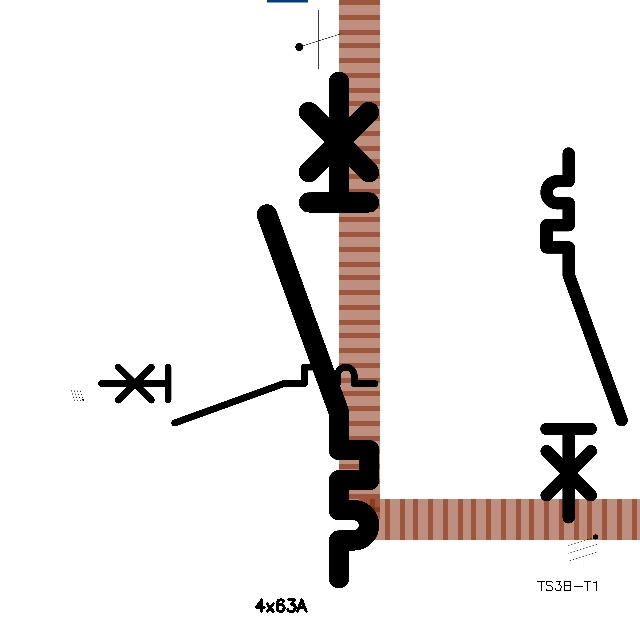interruptor_termomagnetico: (254, 69, 382, 591), (537, 144, 630, 527), (94, 360, 382, 430)
